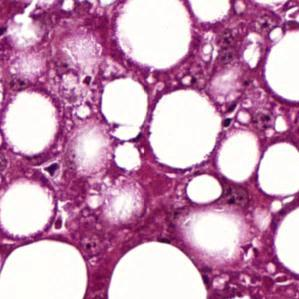steatosis: (153, 87, 222, 170), (260, 140, 299, 192), (188, 173, 223, 205)
